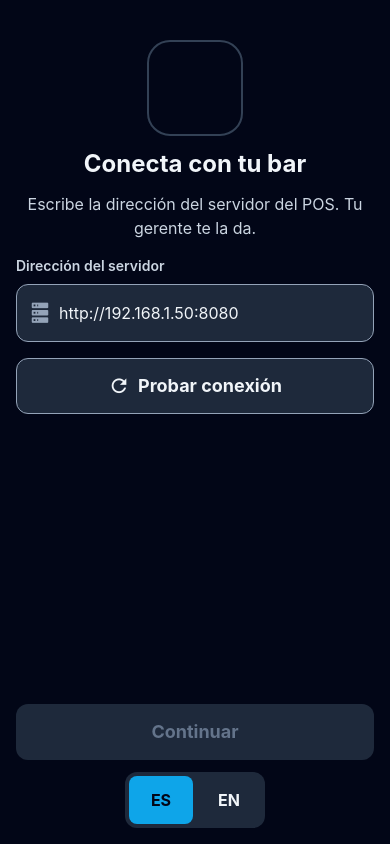
SEC-03 in the setup screen › a public http:// host shows the Spanish validation error and never calls the network
Replace the text in the field with test id "server-input" with "http://evil.example.com": (210, 313) [59,285,361,341]
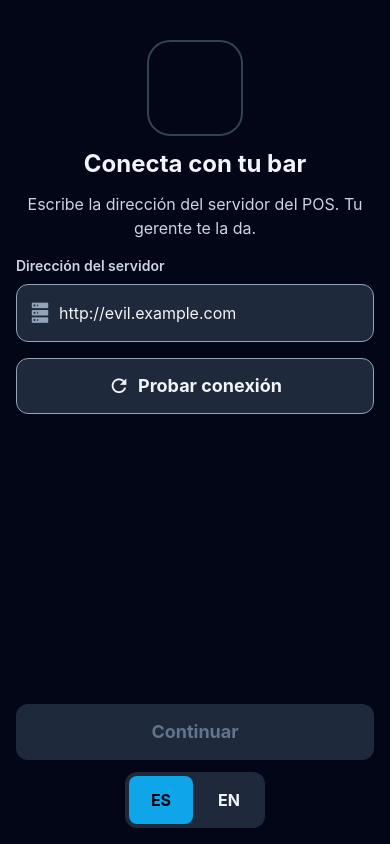
Click the button with test id "server-connect": (195, 386) [16,358,374,414]
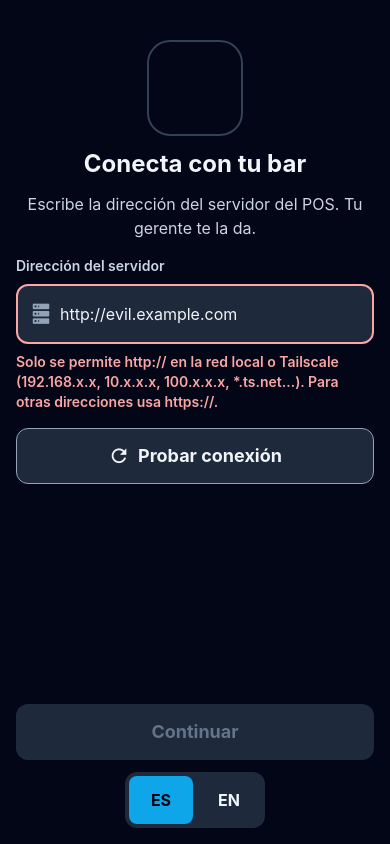
Check: the text "Solo se permite http:// en la red local" is shown, box [16,353,342,410]
